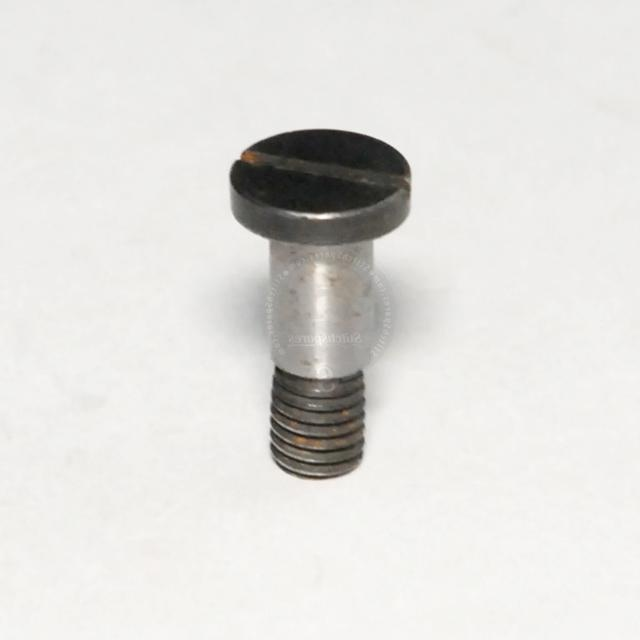duz: (228, 125, 415, 246)
